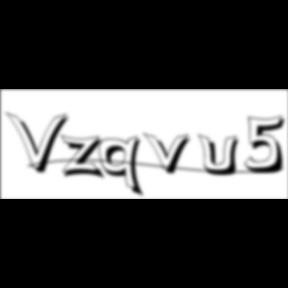V: (5, 110, 72, 176)
q: (100, 135, 148, 200)
u: (198, 132, 246, 178)
v: (143, 131, 197, 177)
z: (60, 134, 110, 182)
